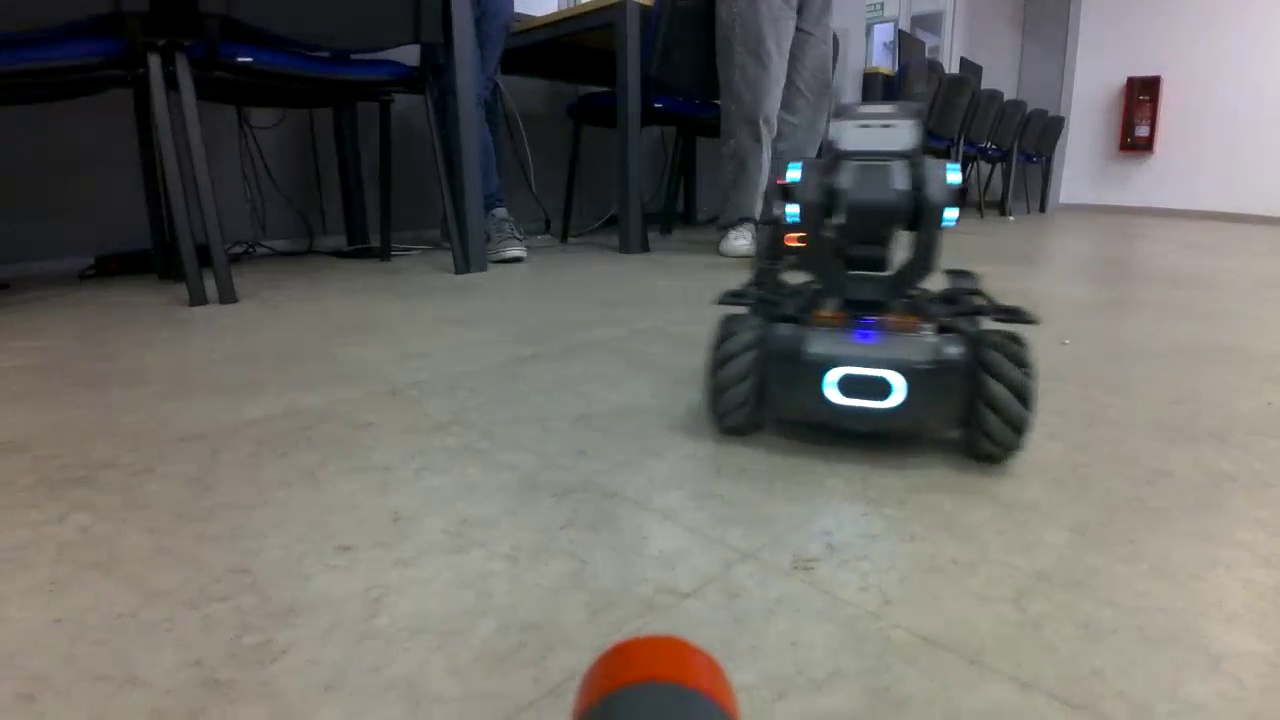robot: (707, 102, 1042, 466)
